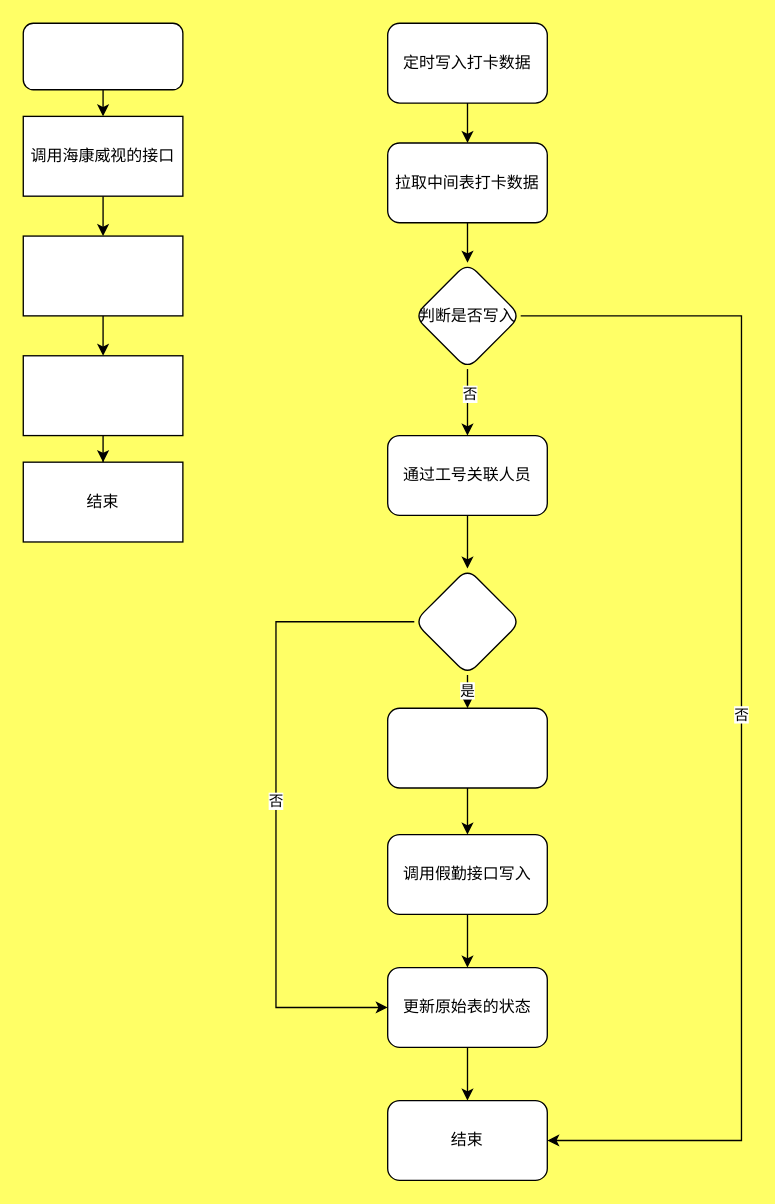
Image size: 775x1204. Some labels were removed from this diagram. The shapes that lost their labels are listed below. From the top down, each one's box as (x1, y1, x2, y2) in pixels, then its label:
(22, 22, 183, 90): 定时拉取打卡原始数据
(22, 235, 183, 316): 打卡数据转换过滤
(22, 354, 183, 436): 打卡数据写入中间表
(413, 567, 521, 675): 是否匹配人员
(386, 707, 547, 788): 打卡数据转换
